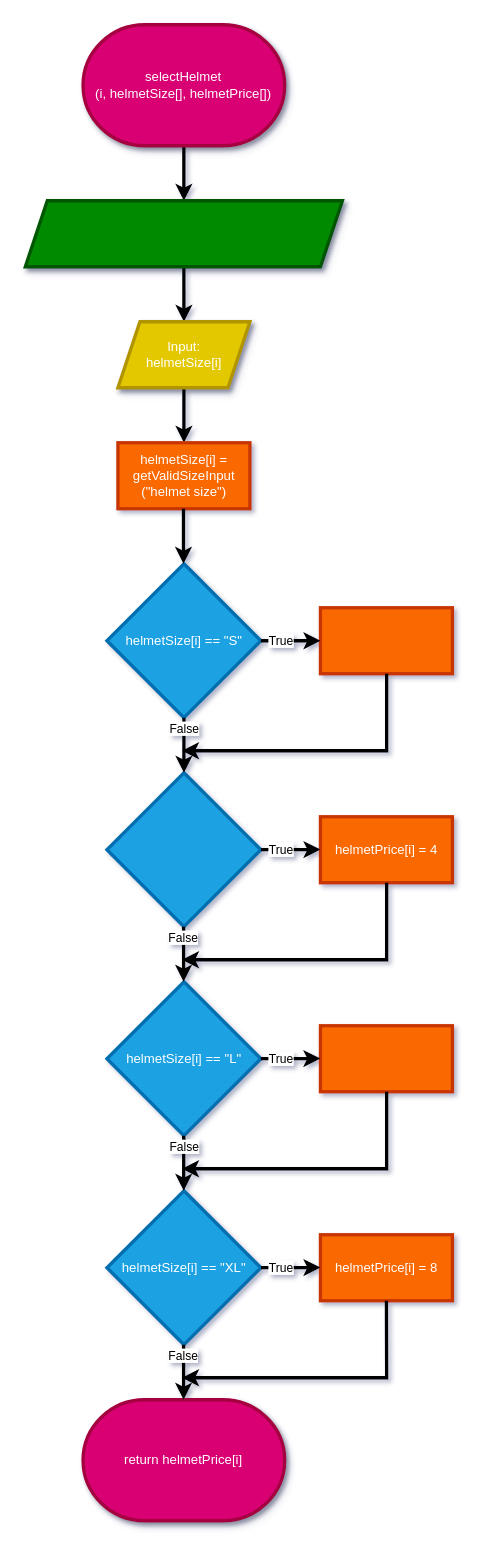
Some shapes in this 480 by 1555 pixel diagram are drawn without their labels. Each missing label, with the centre of its shape:
helmetPrice[i] = 2: point 386,640
helmetPrice[i] = 6: point 386,1058
helmetSize[i] == "M": point 183,849
Prompt: "Please choose your helmet size (S/M/L/XL): ": point 184,235
